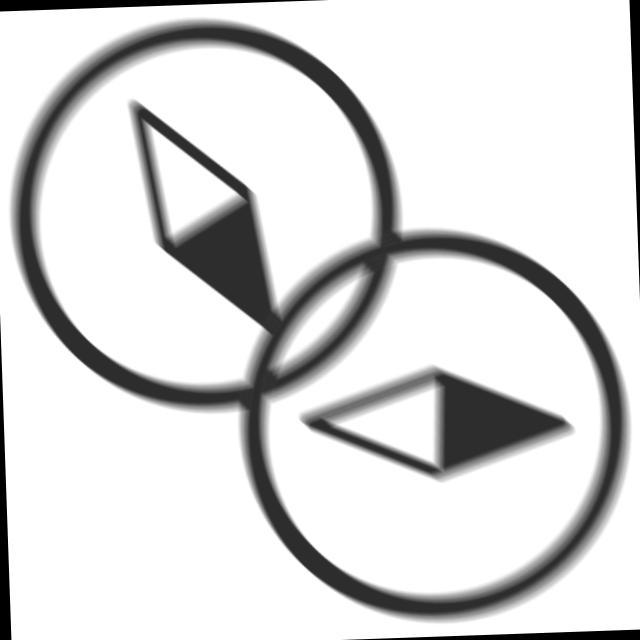compass: (1, 7, 426, 435), (226, 218, 637, 638)
